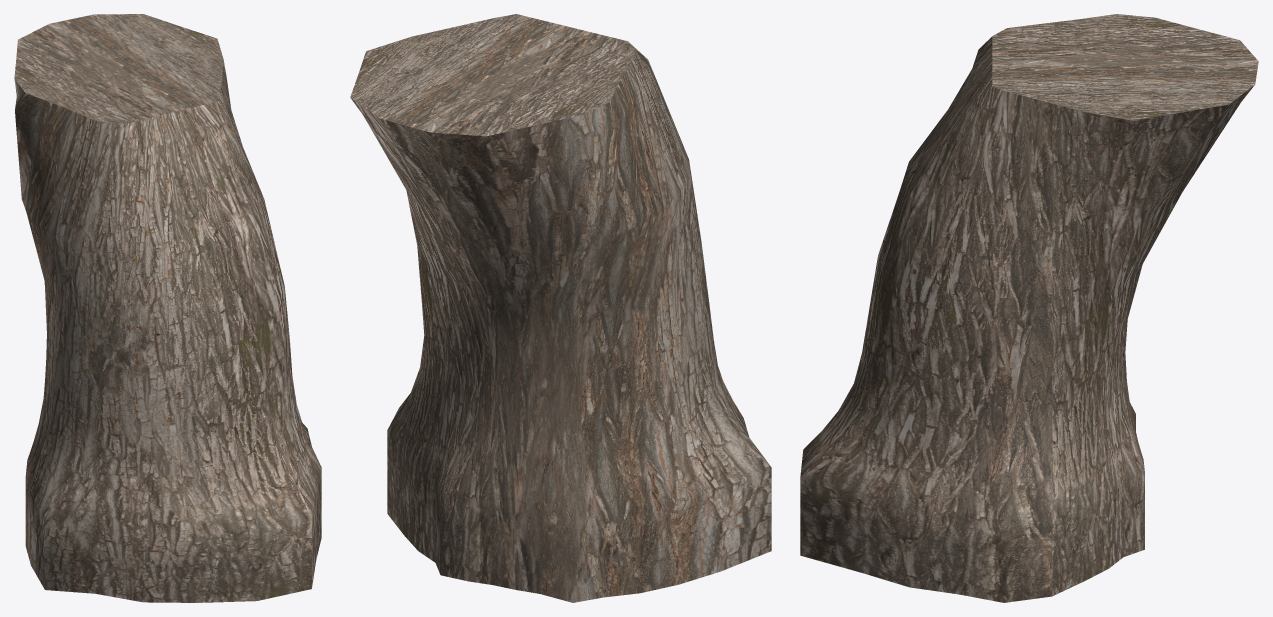
Rendered from SM_MightyOak_LowerTrunk.fbx.
The picture shows the model from 3 angles, left to right: view 1: azimuth 30°, elevation 25°; view 2: azimuth 150°, elevation 25°; view 3: azimuth 270°, elevation 25°; orthographic projection. The views are drawn at different scales.
Visible parts, largest first — view 1: SM_MightyOak_LowerTrunk; view 2: SM_MightyOak_LowerTrunk; view 3: SM_MightyOak_LowerTrunk.
Boxes of the visible parts, x1,y1,x2,y2 form: SM_MightyOak_LowerTrunk: (14,14,321,602); SM_MightyOak_LowerTrunk: (350,14,771,602); SM_MightyOak_LowerTrunk: (800,14,1258,602).
Size of the model in its own units: 0.8562 by 1.2 by 1.07.
